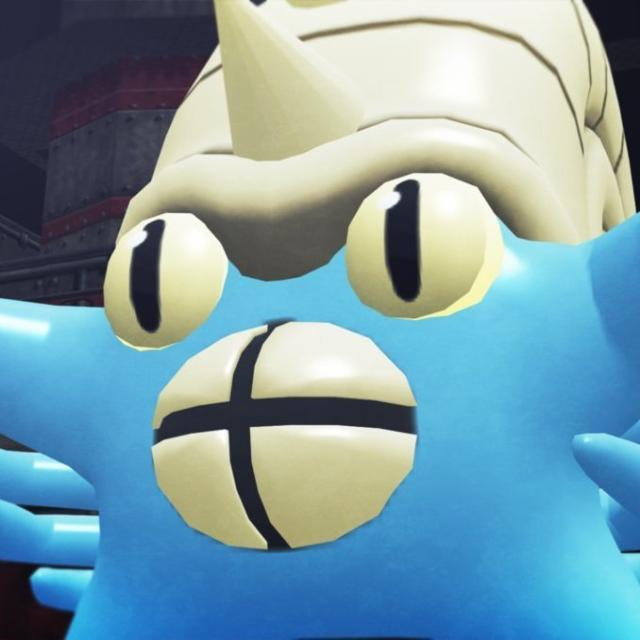Omastar: (80, 0, 640, 640)
